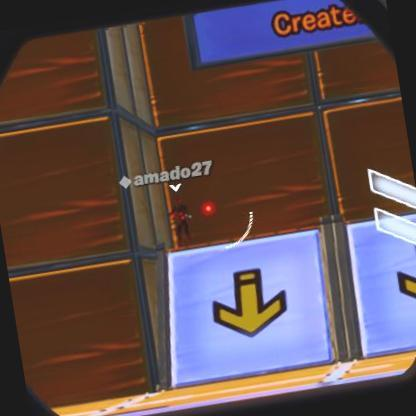person: (160, 198, 198, 262)
